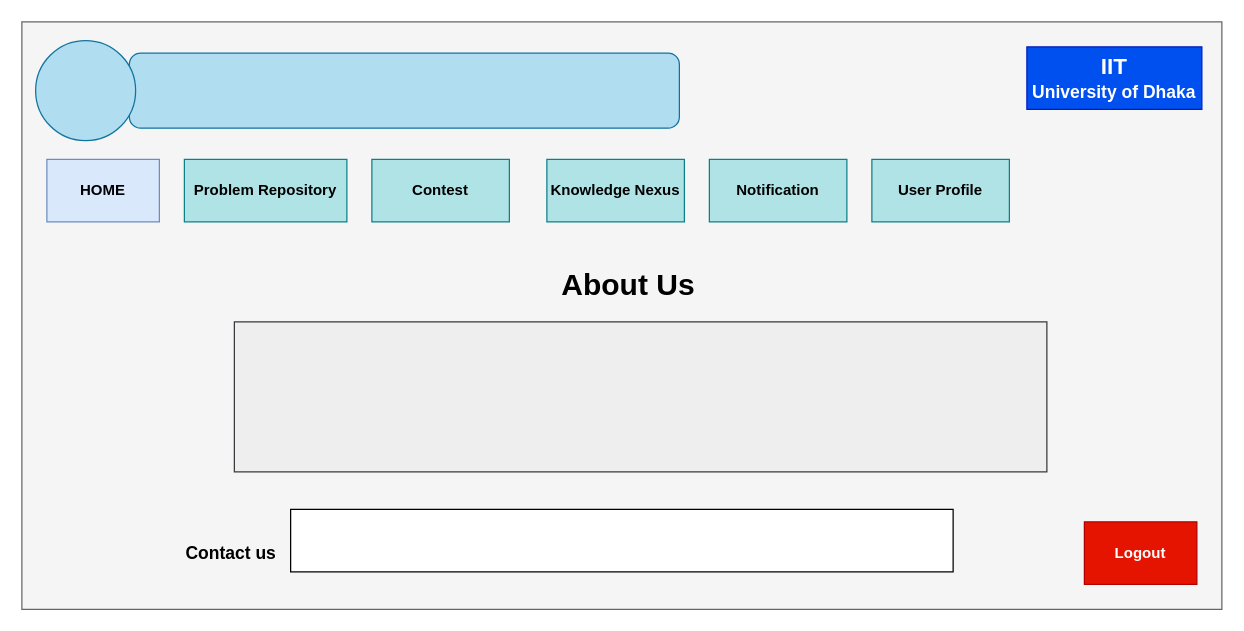
This 1244x631 diagram has some shape labels left out. The shapes that lost their labels are listed below. From the top down, each one's box as (x1, y1, x2, y2) in pixels, then its label:
(34, 39, 136, 141): LOGO
(128, 52, 679, 128): CodeSphere - Competitive Programming & Learning Platform
(233, 321, 1047, 472): About CodeSphere
(289, 508, 953, 572): Links, contact information
